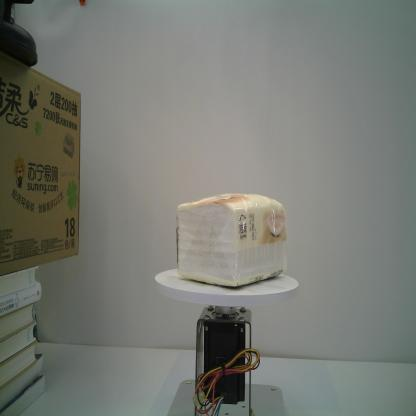Tissue: (175, 192, 287, 288)
